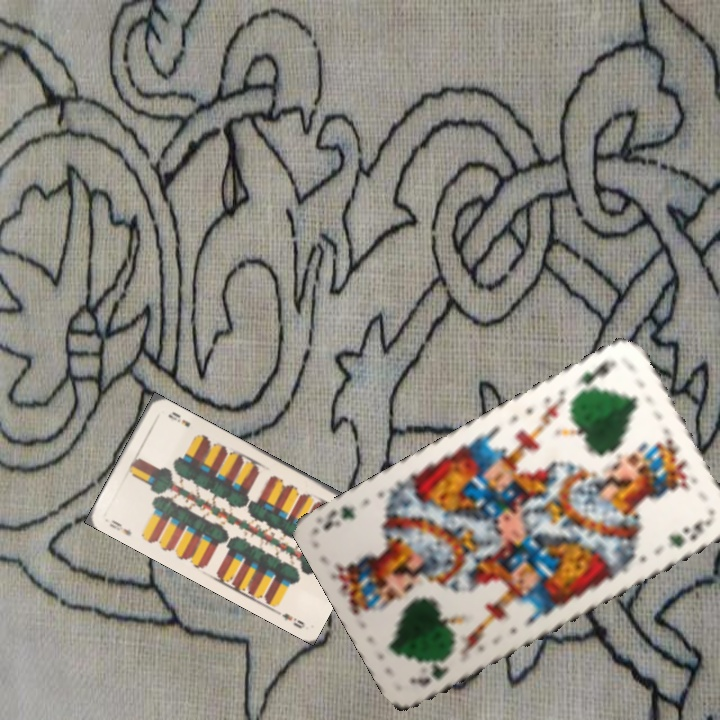E9: (105, 516, 134, 538)
GK: (406, 654, 453, 689), (571, 356, 619, 389)
